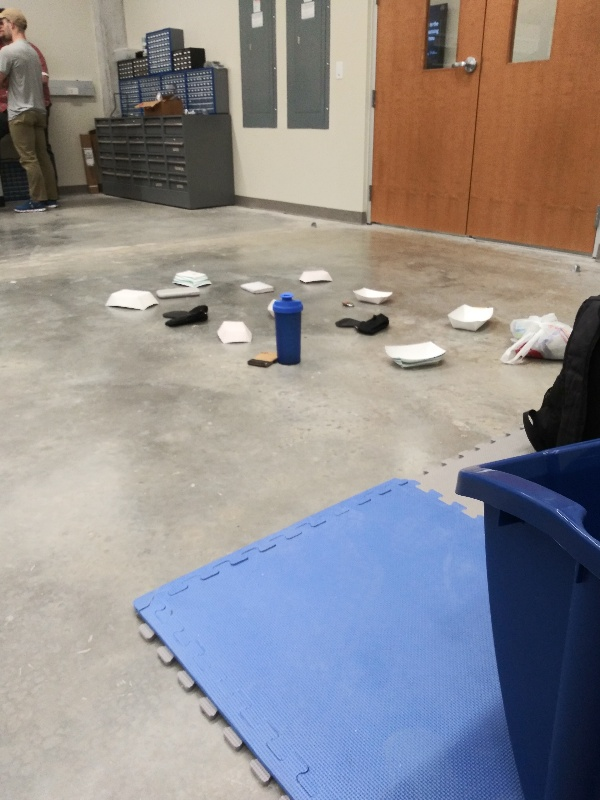plate: (380, 338, 451, 369), (443, 300, 499, 335), (100, 286, 162, 313), (211, 316, 256, 345), (349, 283, 394, 307), (167, 268, 215, 289), (294, 266, 334, 284)
